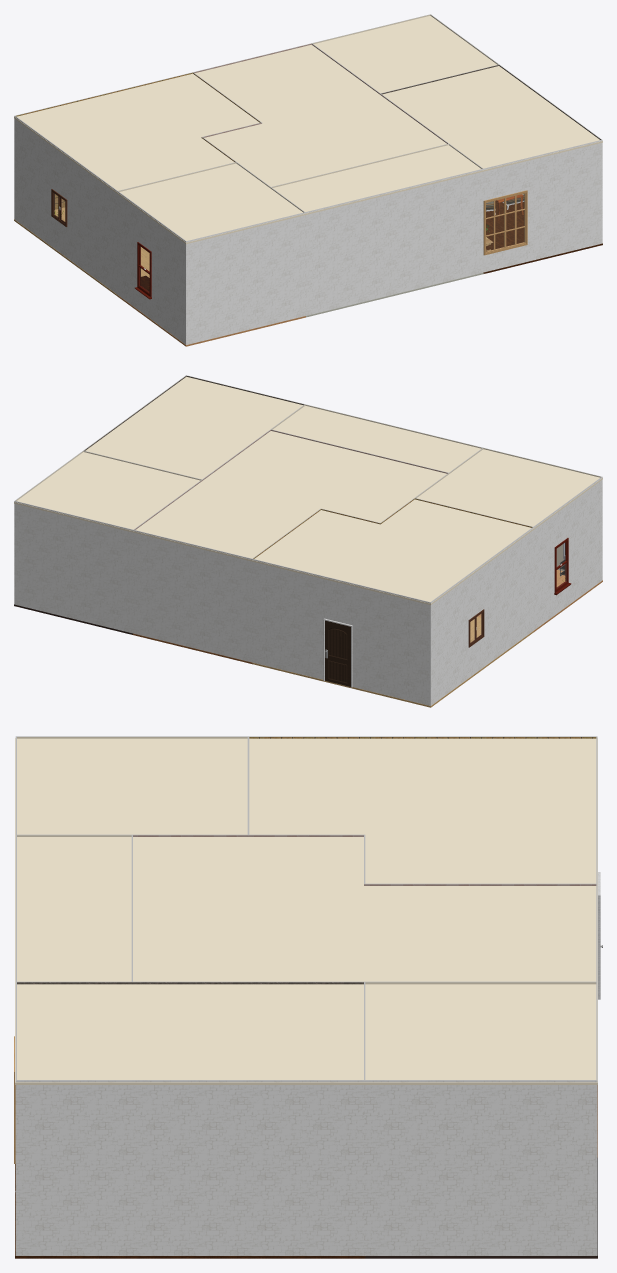
The model's file is ProcTHOR-Train-82.glb.
3 renders of one model, top to bottom at view 1: azimuth 30°, elevation 25°; view 2: azimuth 150°, elevation 25°; view 3: azimuth 270°, elevation 25°, orthographic. The views are drawn at different scales.
Visible parts, largest first — view 1: Ceiling#room|4|c, WallInside#wall|exterior|4.18|10.46|10.46|10.46, Ceiling#room|8|c, WallInside#wall|exterior|10.46|10.46|14.64|10.46, Ceiling#room|6|c, WallInside#wall|exterior|14.64|0.00|14.64|6.27, WallInside#wall|exterior|0.00|10.46|4.18|10.46, Ceiling#room|9|c, Ceiling#room|7|c, WallInside#wall|exterior|14.64|6.27|14.64|10.46, Ceiling#room|5|c, Floor#room|6|f (+4 smaller); view 2: Ceiling#room|4|c, WallInside#wall|exterior|8.37|0.00|14.64|0.00, Ceiling#room|8|c, WallInside#wall|exterior|0.00|0.00|4.18|0.00, WallInside#wall|exterior|4.18|0.00|8.37|0.00, Ceiling#room|6|c, WallInside#wall|exterior|14.64|0.00|14.64|6.27, Ceiling#room|7|c, Ceiling#room|9|c, WallInside#wall|exterior|14.64|6.27|14.64|10.46, Ceiling#room|5|c, Doorway_9 (+2 smaller); view 3: WallInside#wall|exterior|0.00|4.18|0.00|10.46, Ceiling#room|4|c, Ceiling#room|8|c, WallInside#wall|exterior|0.00|0.00|0.00|4.18, Ceiling#room|6|c, Ceiling#room|7|c, Ceiling#room|9|c, Ceiling#room|5|c, Floor#room|6|f, WallInside#wall|8|14.64|0.00|14.64|6.27, Floor#room|7|f, WallInside#wall|7|4.18|0.00|4.18|4.18 (+2 smaller).
Part boxes in pixels (x1=…): Ceiling#room|4|c: x1=193, y1=45, x2=446, y2=188; WallInside#wall|exterior|4.18|10.46|10.46|10.46: x1=305, y1=169, x2=483, y2=315; Ceiling#room|8|c: x1=14, y1=73, x2=259, y2=193; WallInside#wall|exterior|10.46|10.46|14.64|10.46: x1=186, y1=212, x2=305, y2=344; Ceiling#room|6|c: x1=382, y1=66, x2=602, y2=171; WallInside#wall|exterior|14.64|0.00|14.64|6.27: x1=14, y1=116, x2=117, y2=294; WallInside#wall|exterior|0.00|10.46|4.18|10.46: x1=483, y1=140, x2=602, y2=272; Ceiling#room|9|c: x1=117, y1=163, x2=305, y2=244; Ceiling#room|7|c: x1=312, y1=15, x2=497, y2=94; WallInside#wall|exterior|14.64|6.27|14.64|10.46: x1=117, y1=191, x2=186, y2=344; Ceiling#room|5|c: x1=273, y1=145, x2=483, y2=214; Floor#room|6|f: x1=483, y1=201, x2=602, y2=273; Ceiling#room|4|c: x1=132, y1=431, x2=446, y2=561; WallInside#wall|exterior|8.37|0.00|14.64|0.00: x1=252, y1=559, x2=430, y2=705; Ceiling#room|8|c: x1=252, y1=499, x2=533, y2=605; WallInside#wall|exterior|0.00|0.00|4.18|0.00: x1=14, y1=501, x2=133, y2=633; WallInside#wall|exterior|4.18|0.00|8.37|0.00: x1=133, y1=530, x2=252, y2=662; Ceiling#room|6|c: x1=85, y1=376, x2=302, y2=479; WallInside#wall|exterior|14.64|0.00|14.64|6.27: x1=430, y1=527, x2=533, y2=705; Ceiling#room|7|c: x1=14, y1=452, x2=200, y2=532; Ceiling#room|9|c: x1=417, y1=449, x2=602, y2=529; WallInside#wall|exterior|14.64|6.27|14.64|10.46: x1=534, y1=477, x2=602, y2=630; Ceiling#room|5|c: x1=273, y1=405, x2=481, y2=473; Doorway_9: x1=323, y1=618, x2=352, y2=687; WallInside#wall|exterior|0.00|4.18|0.00|10.46: x1=15, y1=1080, x2=365, y2=1255; Ceiling#room|4|c: x1=131, y1=836, x2=597, y2=983; Ceiling#room|8|c: x1=247, y1=738, x2=597, y2=886; WallInside#wall|exterior|0.00|0.00|0.00|4.18: x1=364, y1=1080, x2=597, y2=1255; Ceiling#room|6|c: x1=15, y1=984, x2=365, y2=1084; Ceiling#room|7|c: x1=363, y1=984, x2=597, y2=1084; Ceiling#room|9|c: x1=15, y1=738, x2=249, y2=836; Ceiling#room|5|c: x1=15, y1=836, x2=133, y2=984; Floor#room|6|f: x1=15, y1=1164, x2=365, y2=1258; WallInside#wall|8|14.64|0.00|14.64|6.27: x1=249, y1=736, x2=596, y2=738; Floor#room|7|f: x1=364, y1=1158, x2=597, y2=1258; WallInside#wall|7|4.18|0.00|4.18|4.18: x1=365, y1=982, x2=596, y2=984.
Size of what is drawn, in the model's own units: 14.78 by 3.54 by 10.61.
353 materials, 159 textured.
